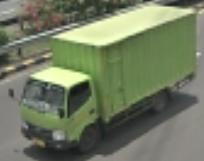truck: (8, 66, 105, 159)
